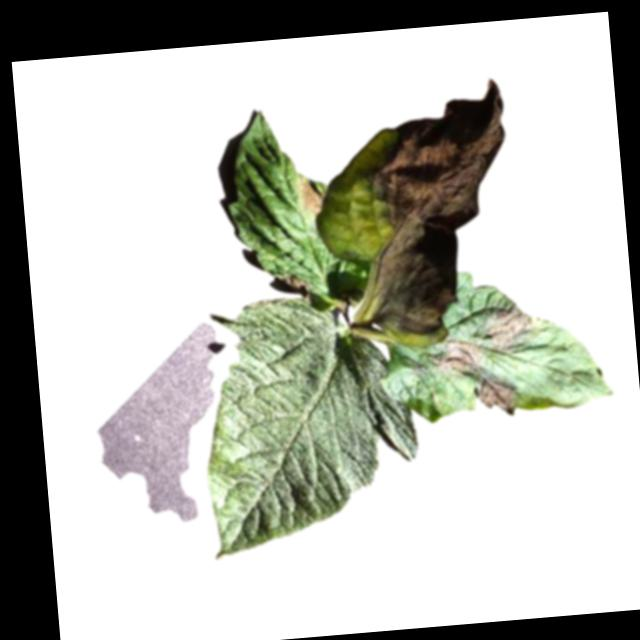Late_blight: (360, 77, 524, 350), (481, 302, 548, 357), (428, 336, 487, 380), (474, 372, 521, 420), (300, 175, 327, 219), (282, 272, 313, 301)
healthy: (191, 288, 426, 562)
